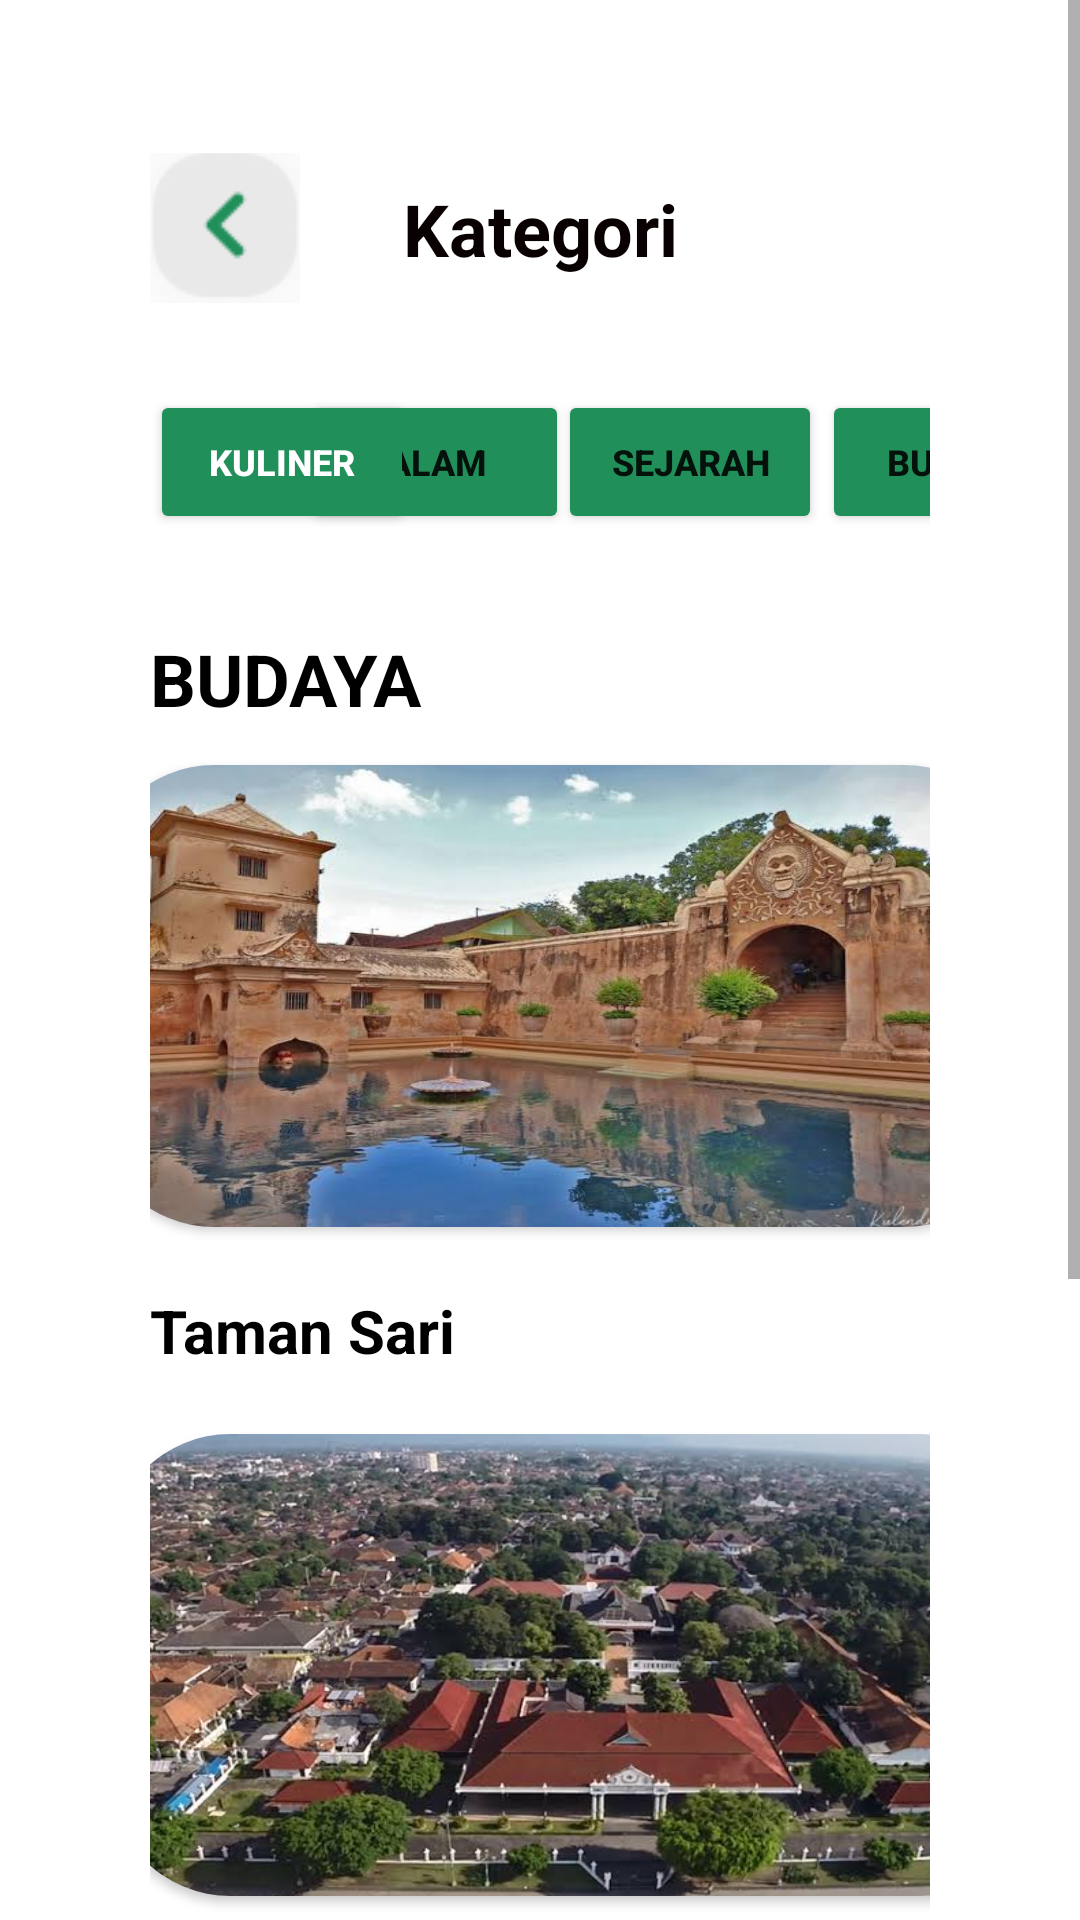

Where to tap for icons on this 1080x1920 app screen, as point (x, y):
back: point (225, 225)
